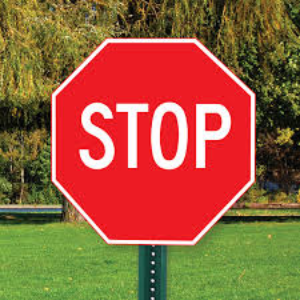STOP_SIGN: (49, 37, 257, 246)
